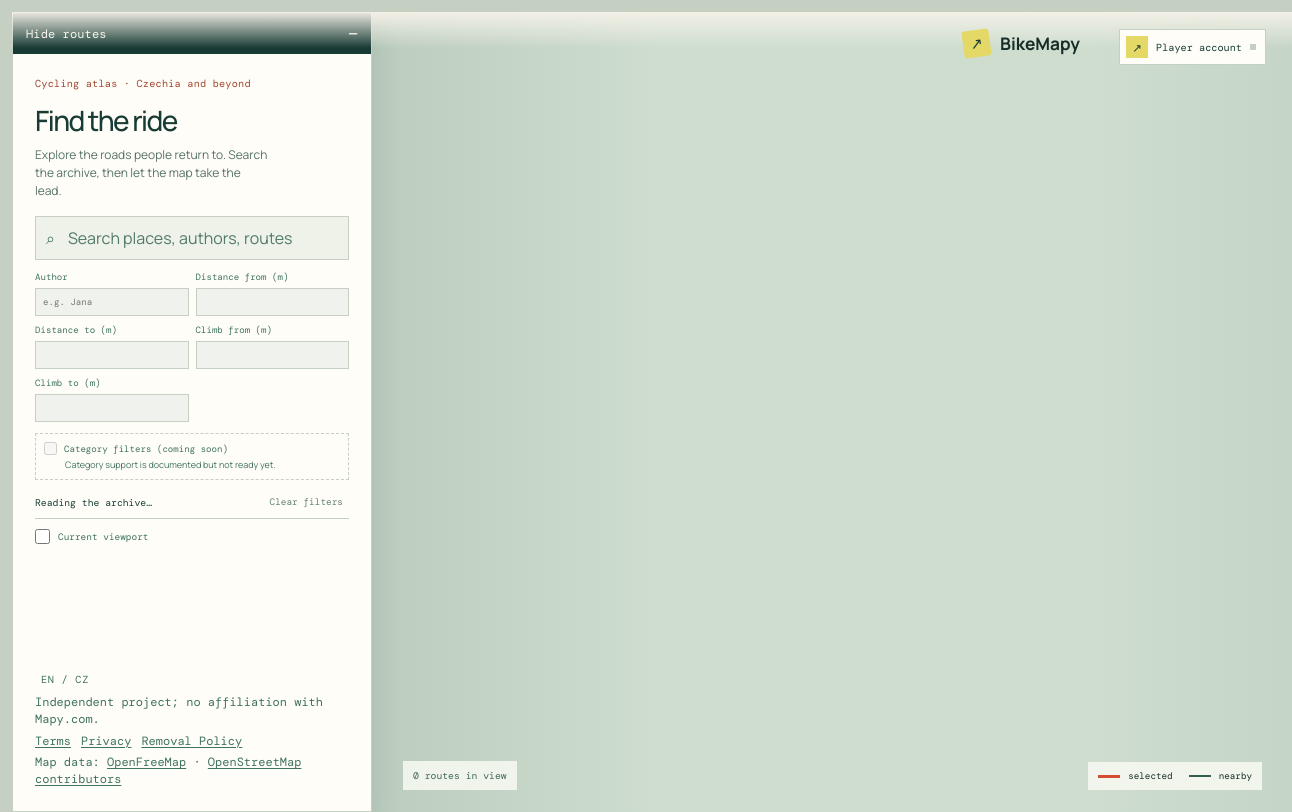
Test case: BikeMapy route discovery › restarts a cancelled request when a filter returns to its settled value
Type "r" into the search field named "search routes".
click(202, 238); type("r")  # box [66,226,338,250]
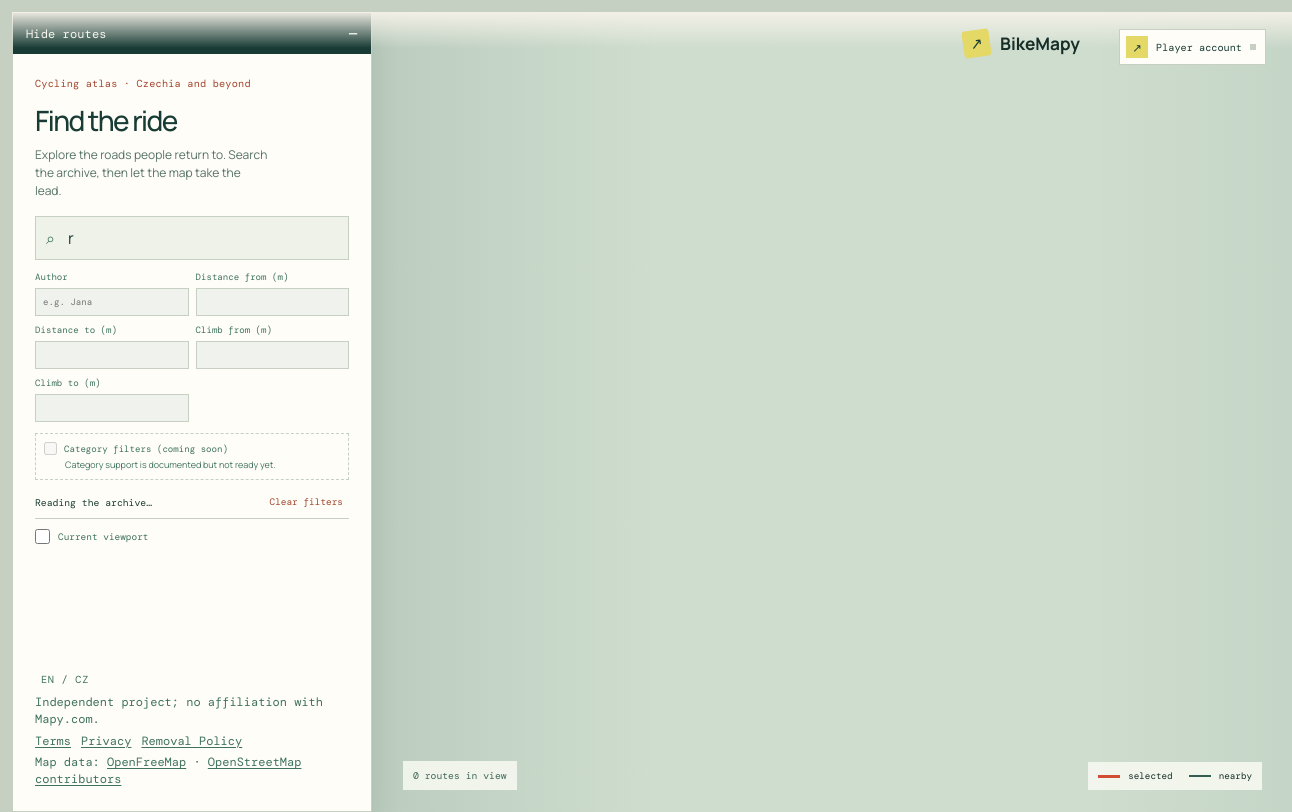
Clear the search field named "search routes" at x=202, y=238, box [66,226,338,250]
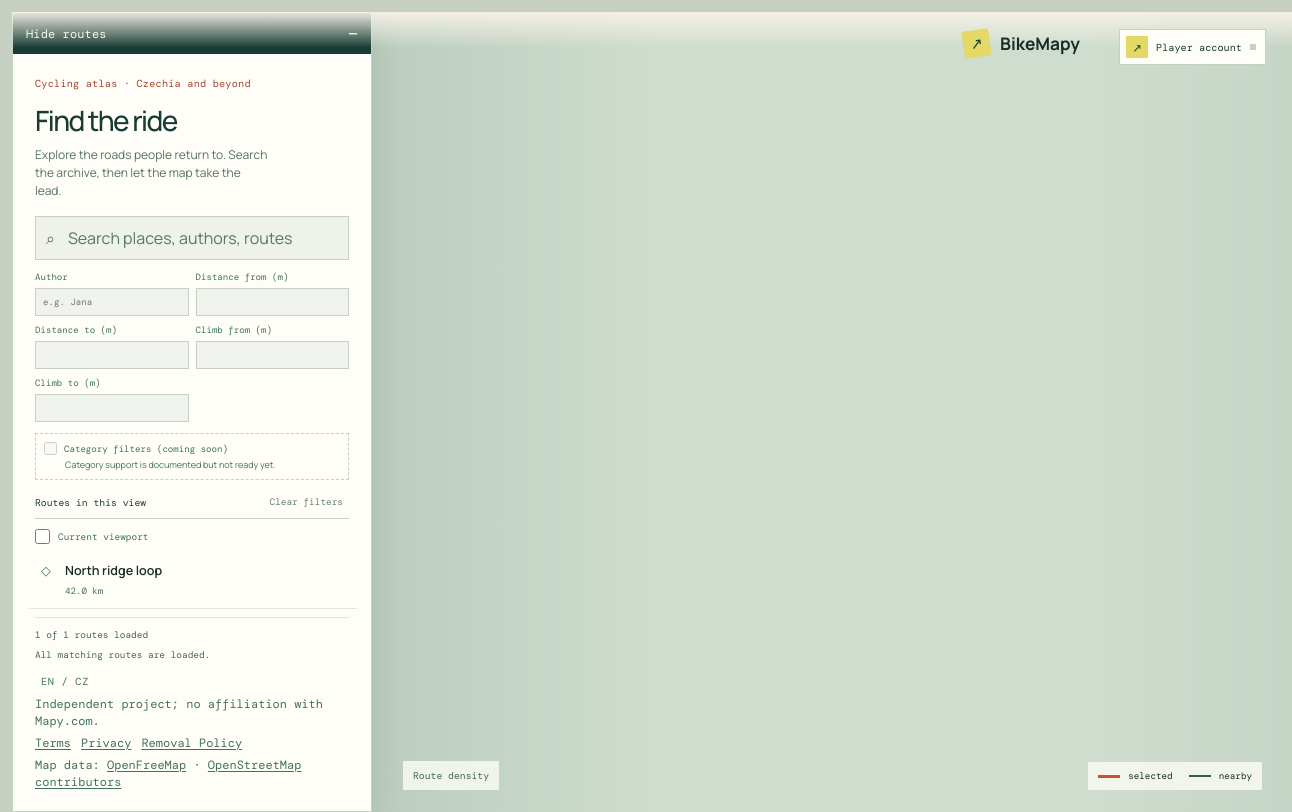
Now the button "◇ North ridge loop 42.0 km" is shown, box [27,551,357,609]
